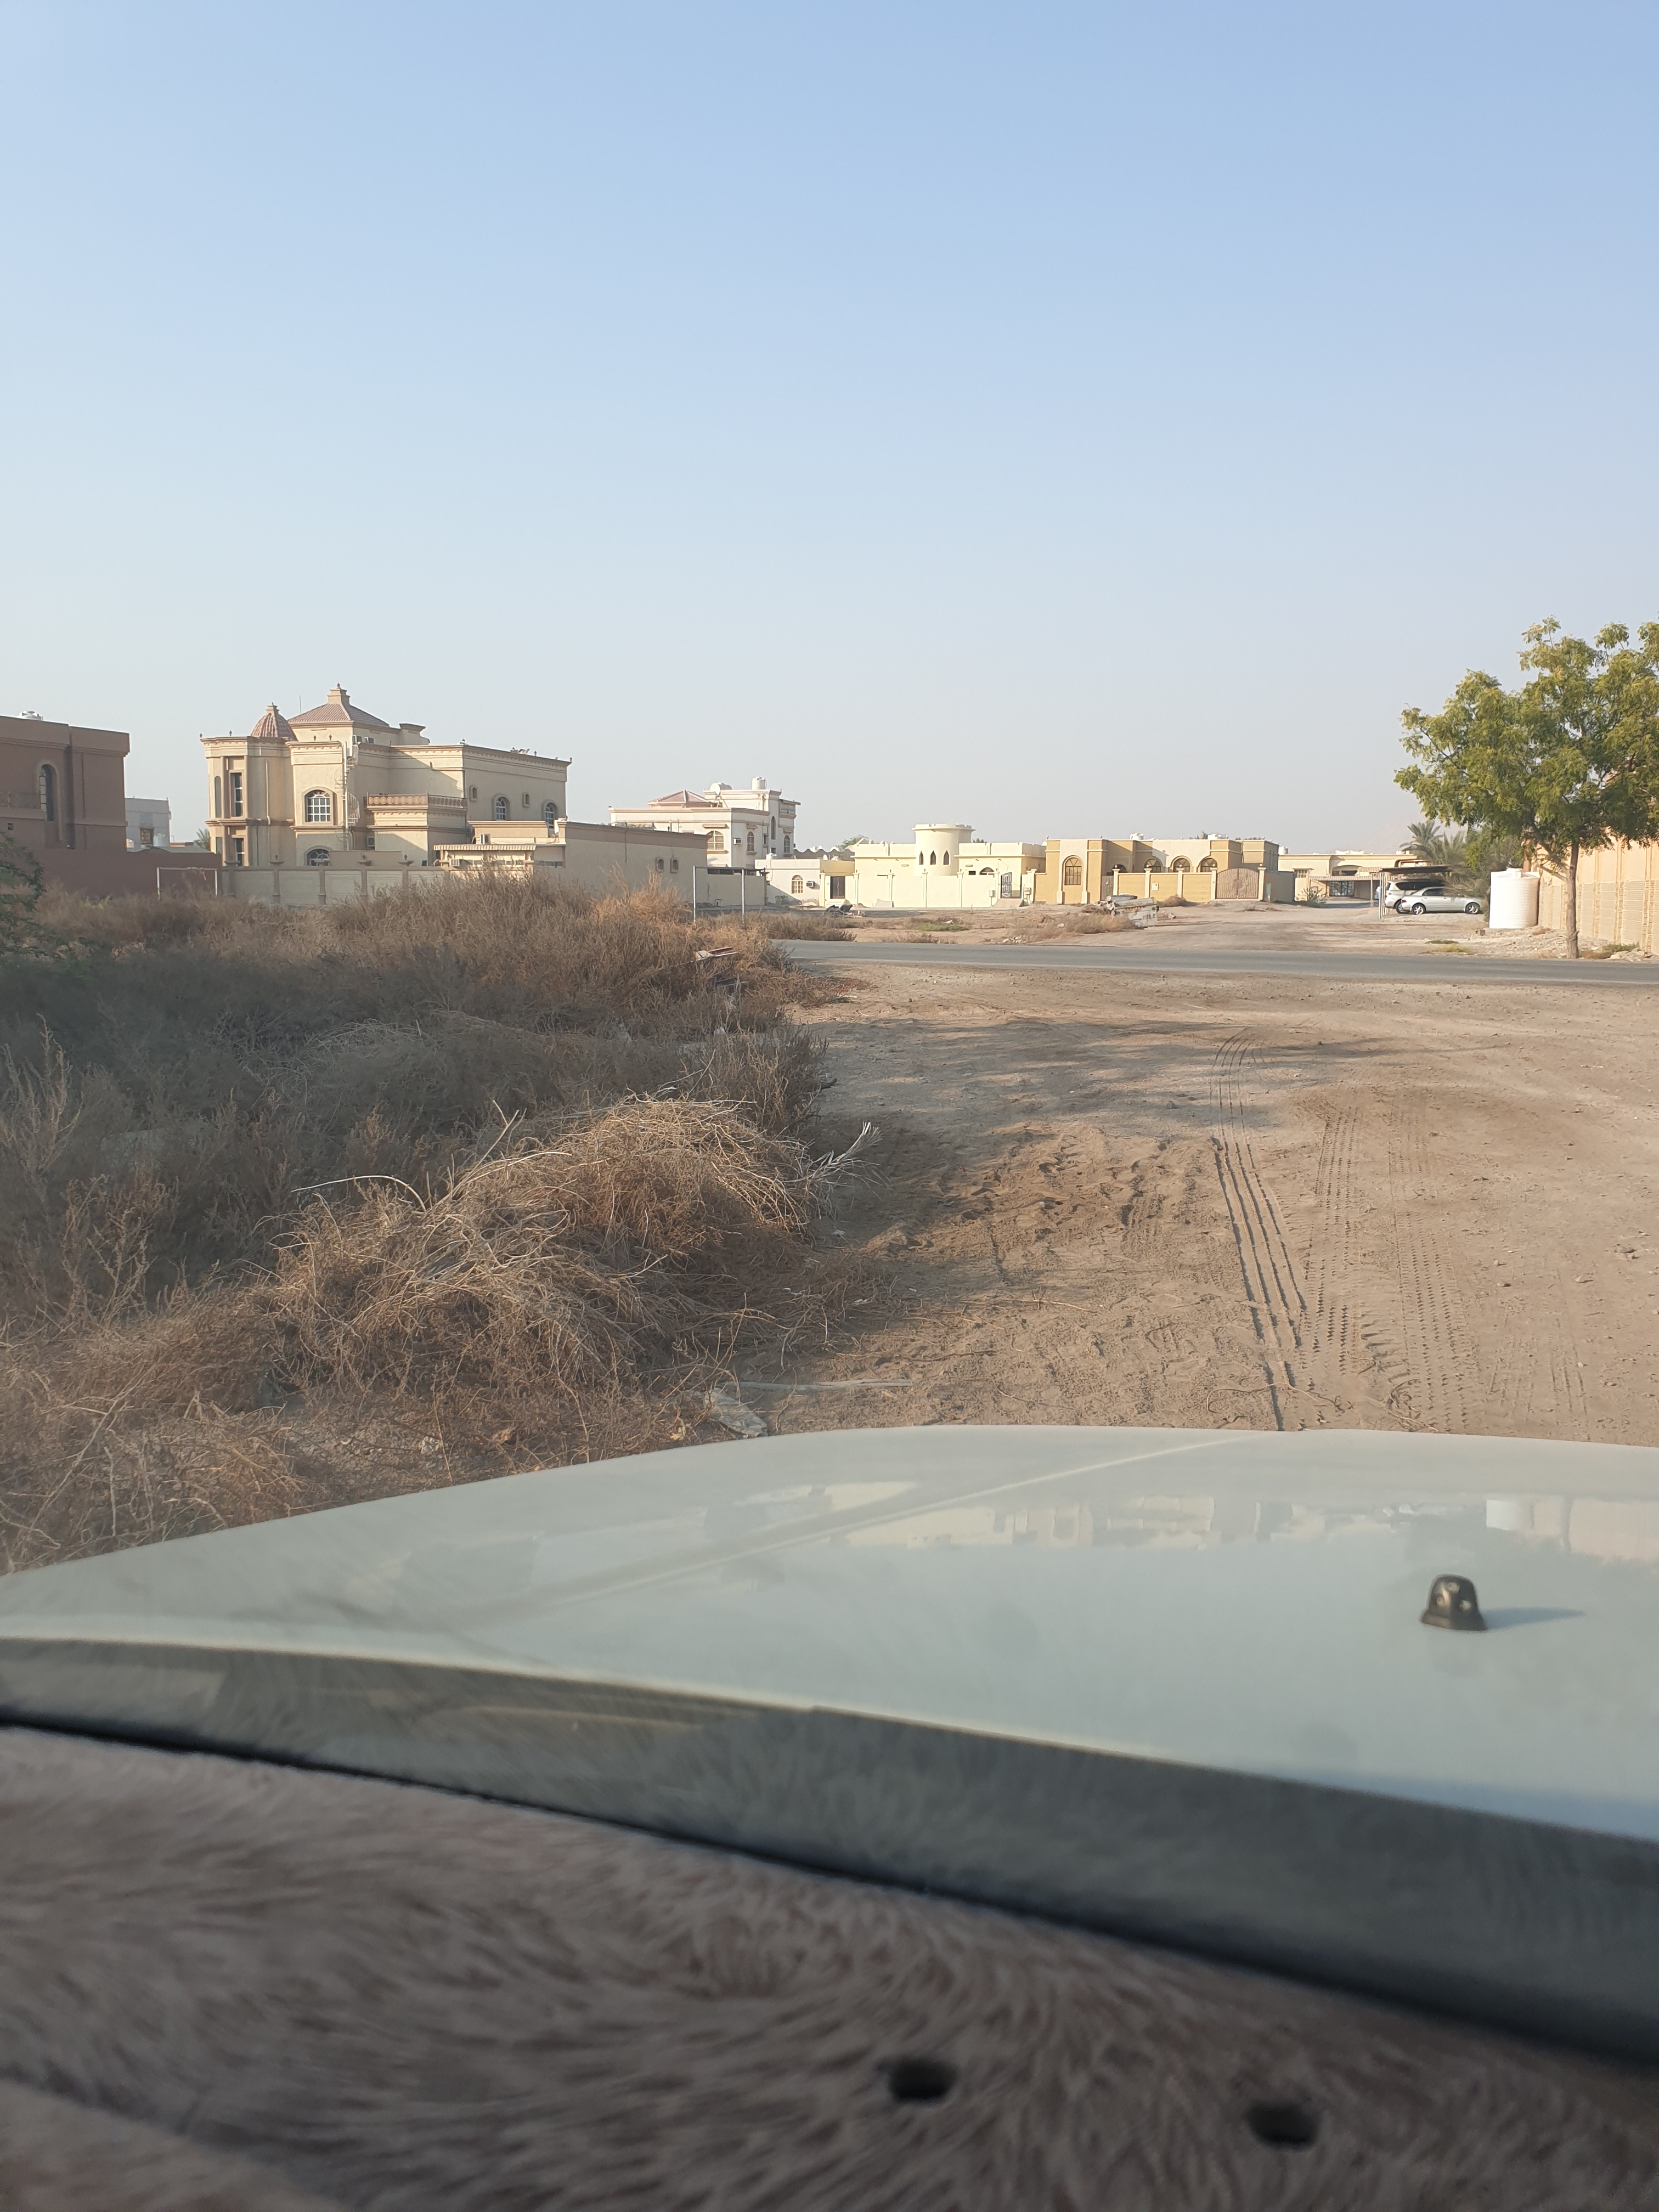fallen_trees: (289, 1141, 1019, 1388), (669, 1043, 1070, 1280)
